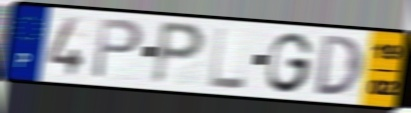4: (47, 14, 87, 78)
D: (314, 33, 365, 98)
G: (265, 30, 317, 95)
L: (208, 25, 249, 91)
P: (149, 18, 209, 88), (89, 16, 146, 82)
